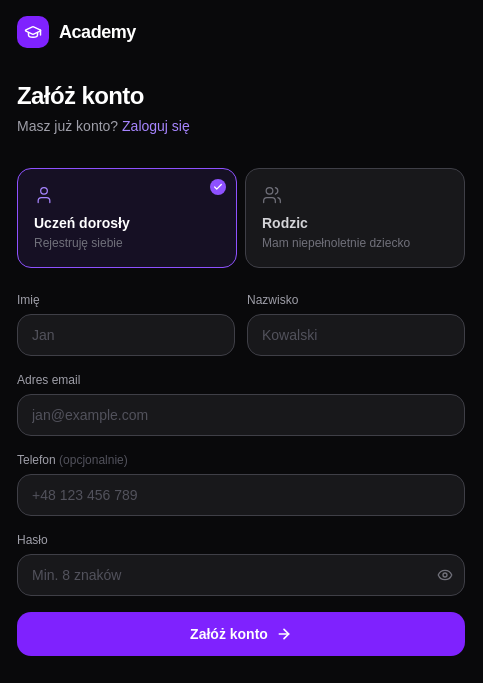
Scenario: RegisterPage › hides parent info box when student type is selected
Click the button "Rodzic Mam niepełnoletnie dziecko": x=355, y=218 [245,168,465,268]
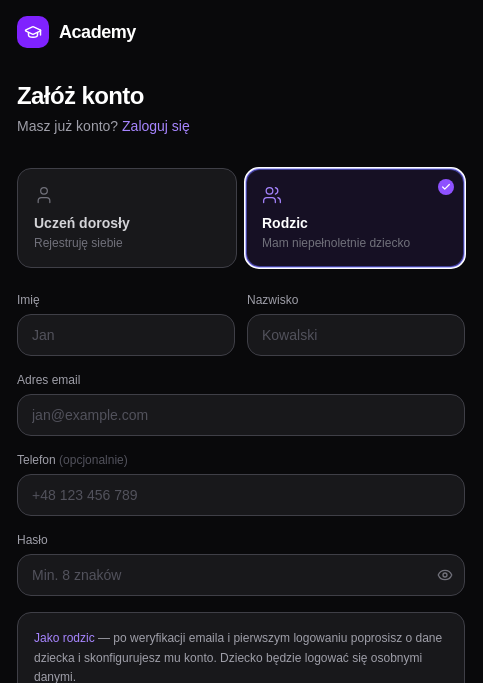
Click the button "Uczeń dorosły Rejestruję siebie": x=127, y=218 [17,168,237,268]
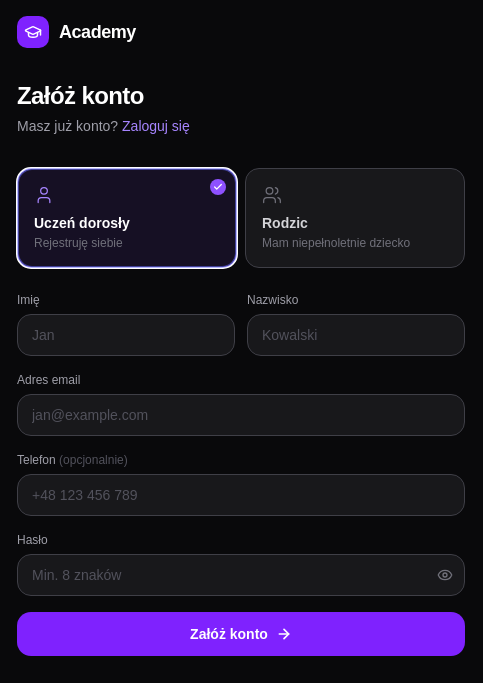
Now the text "Jako rodzic" is gone
